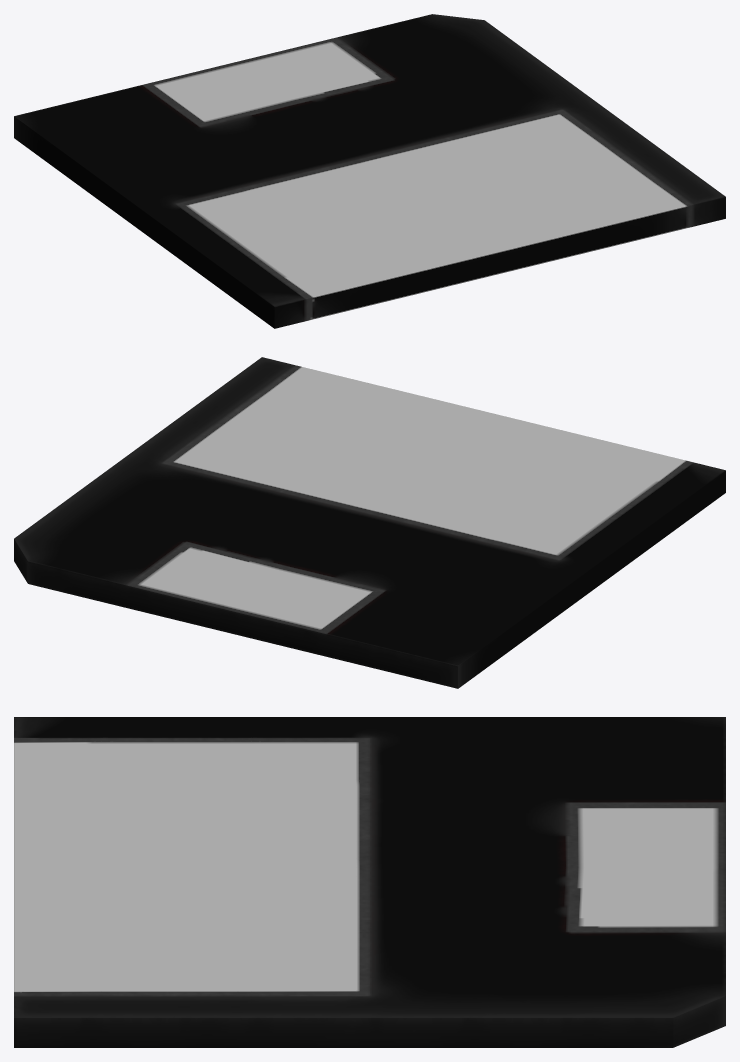
Rendered from Fixed_Item_FloppyDisk_Ver1.fbx.
3 renders of one model, top to bottom at view 1: azimuth 30°, elevation 25°; view 2: azimuth 150°, elevation 25°; view 3: azimuth 270°, elevation 25°, orthographic. The views are drawn at different scales.
Parts seen in each view (by area): view 1: Floppy Disk_LP; view 2: Floppy Disk_LP; view 3: Floppy Disk_LP.
Boxes of the visible parts, x1=… form: Floppy Disk_LP: x1=14, y1=14, x2=725, y2=328; Floppy Disk_LP: x1=14, y1=357, x2=725, y2=688; Floppy Disk_LP: x1=14, y1=717, x2=725, y2=1047.
Size of the model in its own units: 200 by 9.28 by 200.
1 material, 1 textured.
